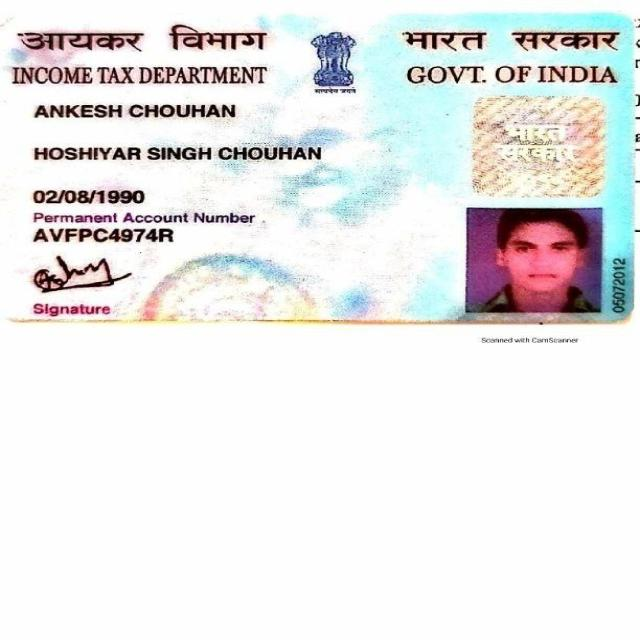pan_card: (0, 6, 638, 330)
